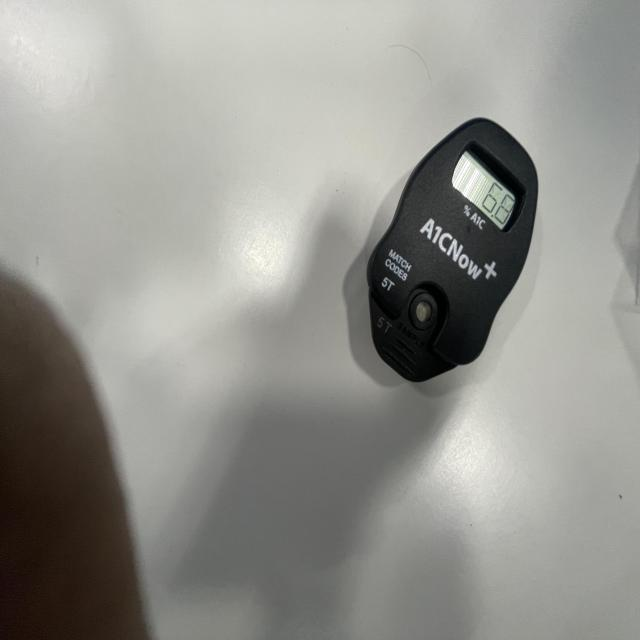hba1c: (359, 118, 540, 386)
